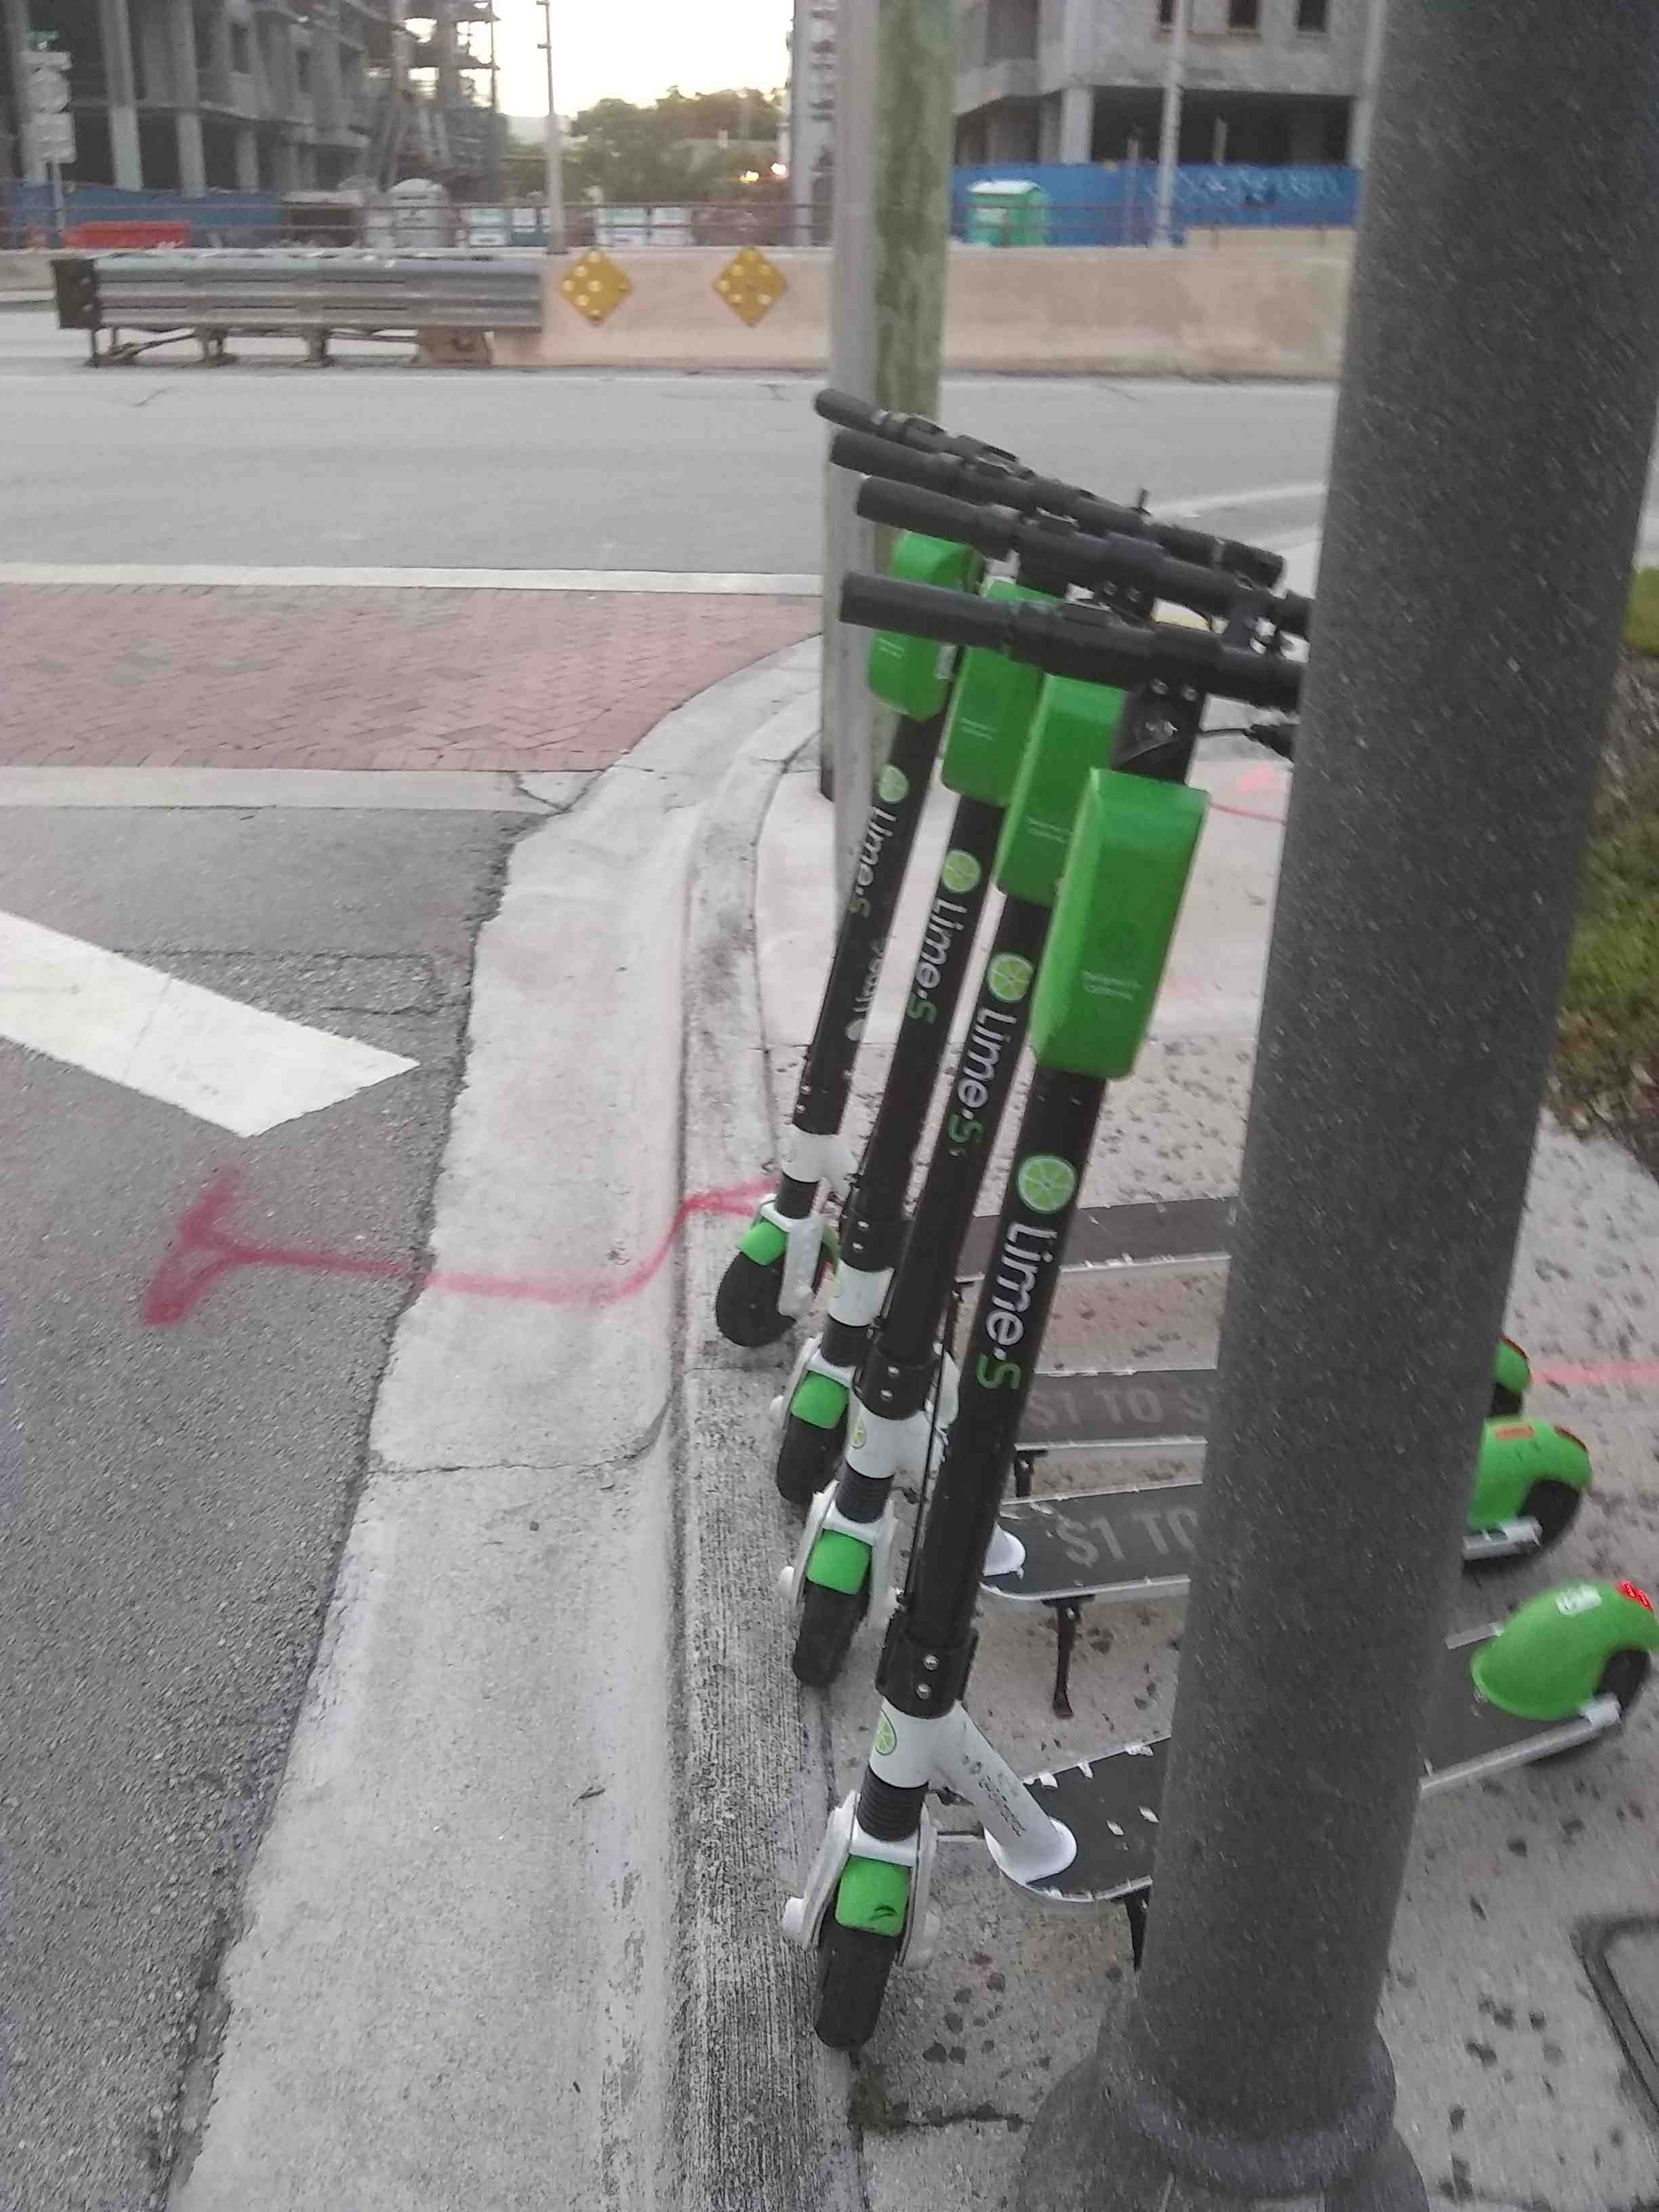too close: (640, 1777, 1030, 2123), (634, 1507, 960, 1714), (579, 1191, 856, 1371)
